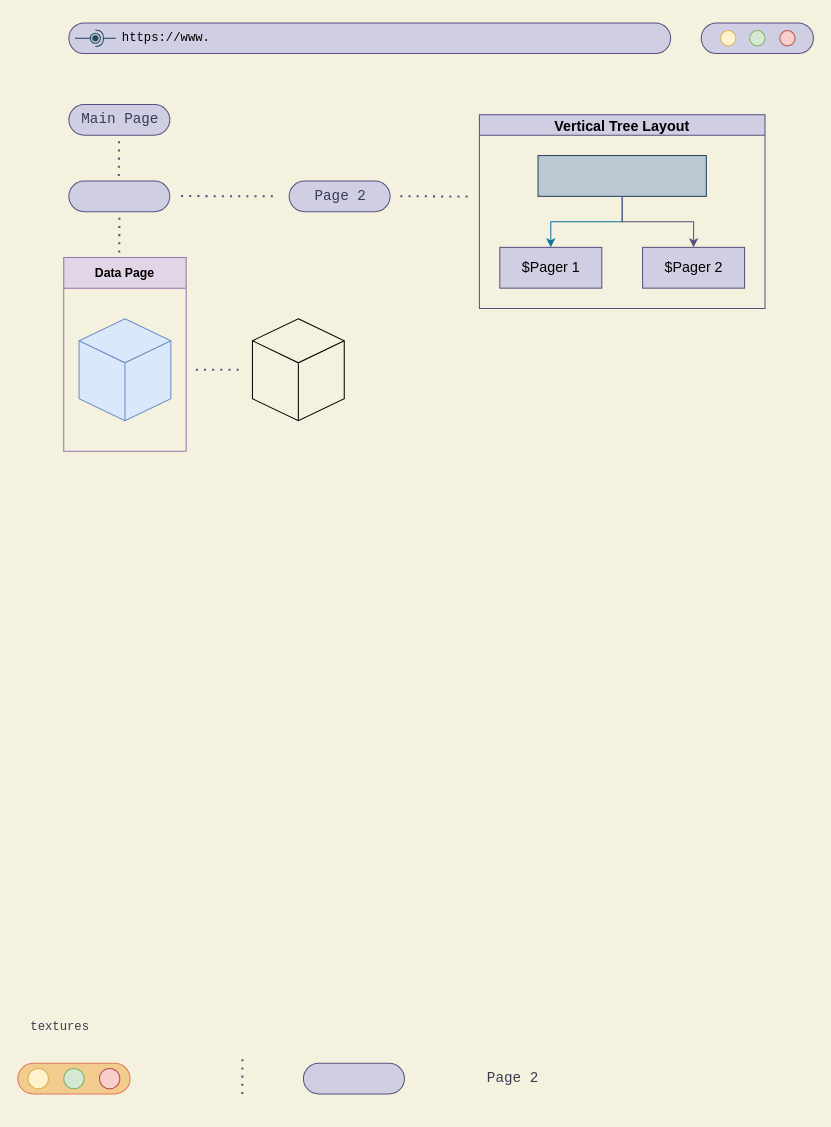
The diagram is 831 pixels wide and 1127 high, and some of its shapes have lost their labels. The centre of each missing label's shape, as x and y in pixels:
"Main Information $Pager" belongs at [621,175].
"Page 1" belongs at [119,196].
